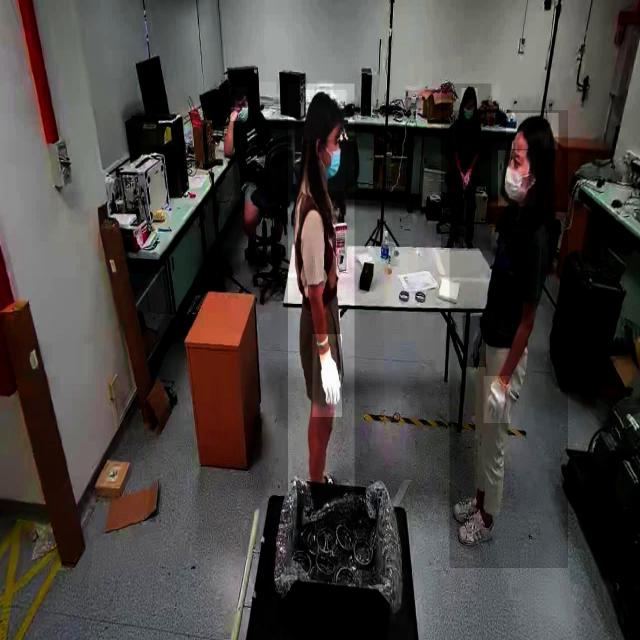face_mask: (498, 150, 536, 206), (320, 144, 346, 190), (461, 103, 477, 128), (236, 108, 252, 130)
hand_glove: (312, 334, 342, 418), (483, 376, 511, 424), (462, 316, 486, 368)
hand_noglove: (460, 173, 471, 191), (464, 169, 472, 187), (460, 170, 468, 188), (230, 108, 240, 121)
head_nohelmet: (304, 90, 346, 140), (506, 113, 558, 149), (230, 87, 248, 109), (462, 88, 478, 108)
person: (449, 110, 568, 569), (288, 84, 354, 508), (222, 82, 276, 249), (441, 84, 492, 250)
shoes: (457, 508, 497, 546), (452, 492, 488, 524)
